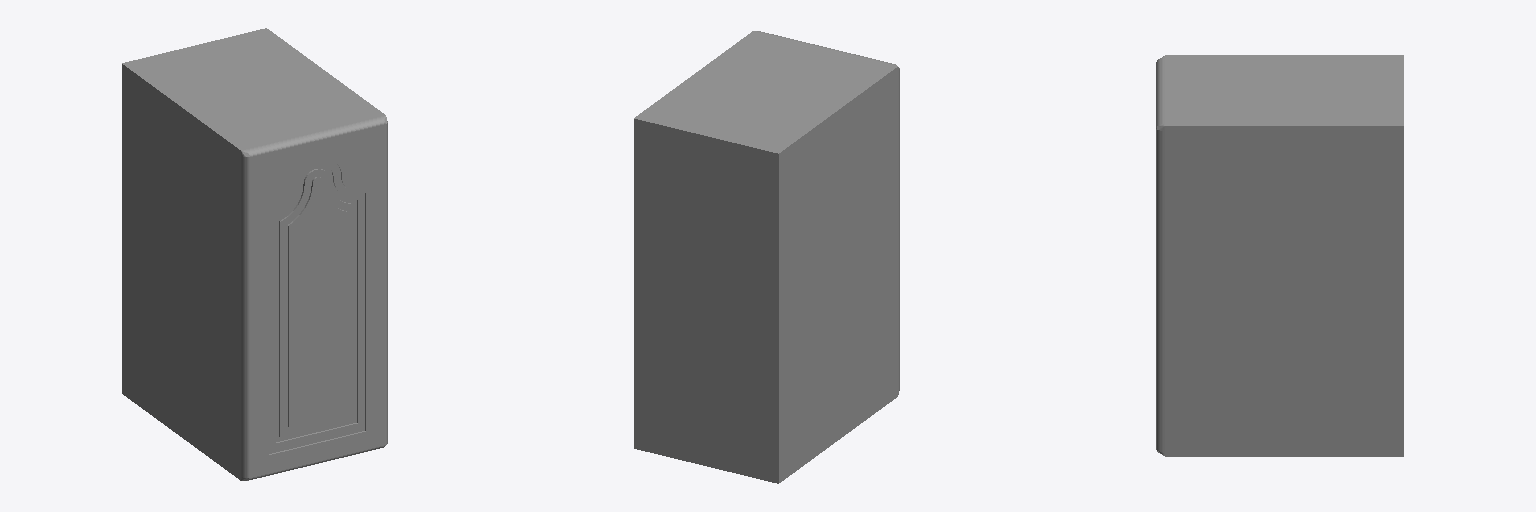
Rendered from single-base-unit-400.obj.
The picture shows the model from 3 angles: view 1: azimuth 30°, elevation 25°; view 2: azimuth 150°, elevation 25°; view 3: azimuth 270°, elevation 25°; orthographic projection.
Visible parts, largest first — view 1: Cube.003_Cube.008, Cube.002_Cube.004, Cube_Cube.002, Cube.001_Cube.003; view 2: Cube_Cube.002, Cube.002_Cube.004, Cube.001_Cube.003, Cube.003_Cube.008; view 3: Cube.001_Cube.003, Cube_Cube.002, Cube.003_Cube.008, Cube.002_Cube.004.
Part boxes in pixels (x1,y1,x2,y2): Cube.003_Cube.008: (241,115,387,480); Cube.002_Cube.004: (122,62,245,480); Cube_Cube.002: (128,29,379,148); Cube.001_Cube.003: (262,28,384,116); Cube_Cube.002: (639,32,891,482); Cube.002_Cube.004: (773,65,897,483); Cube.001_Cube.003: (634,31,757,449); Cube.003_Cube.008: (755,31,899,394); Cube.001_Cube.003: (1165,124,1403,456); Cube_Cube.002: (1165,58,1403,123); Cube.003_Cube.008: (1156,56,1164,455); Cube.002_Cube.004: (1165,55,1403,57).
Bounding box in the file's own units: 80 × 174 × 118.